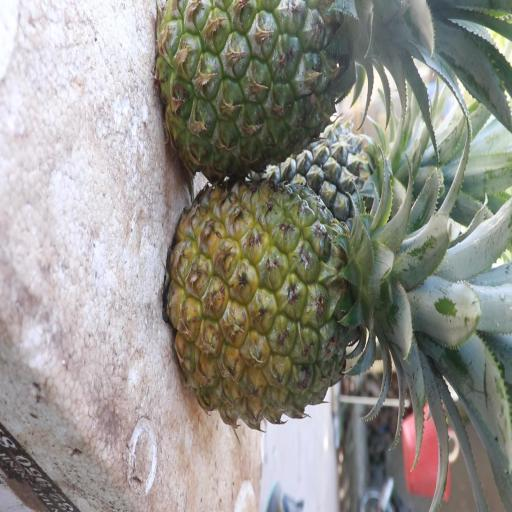------------------------------: (160, 3, 375, 175)
Pineapple - v8 v1: (174, 178, 396, 426)
